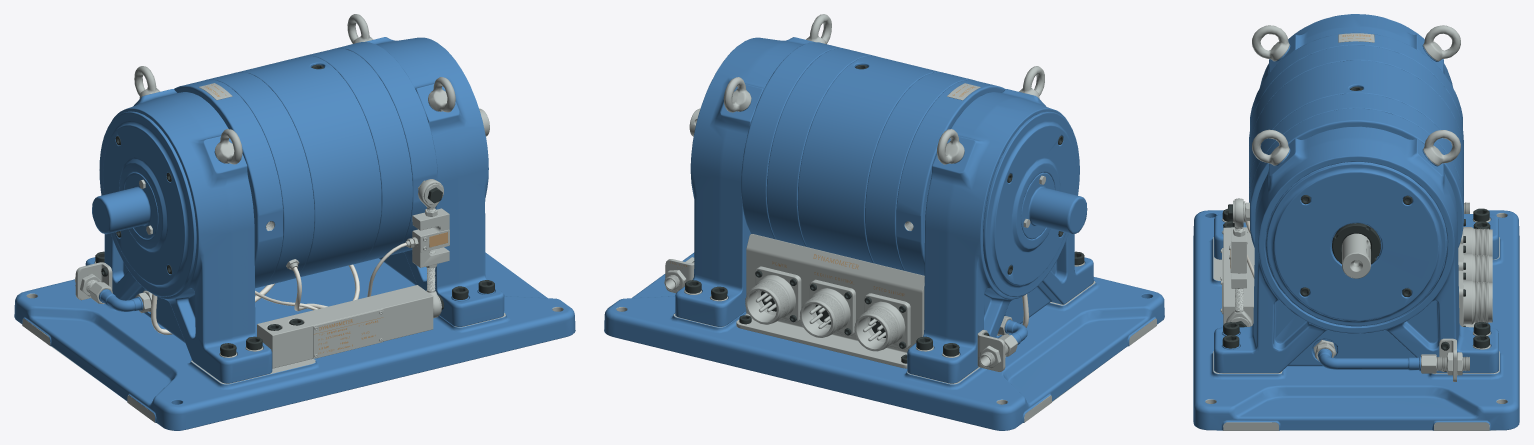
The model's file is testingTool_brake_dynamometer_a01.glb.
3 views of the same model, side by side, from view 1: azimuth 30°, elevation 25°; view 2: azimuth 150°, elevation 25°; view 3: azimuth 270°, elevation 25° (orthographic).
Bounding box in the file's own units: 0.415 × 0.2437 × 0.2833.
